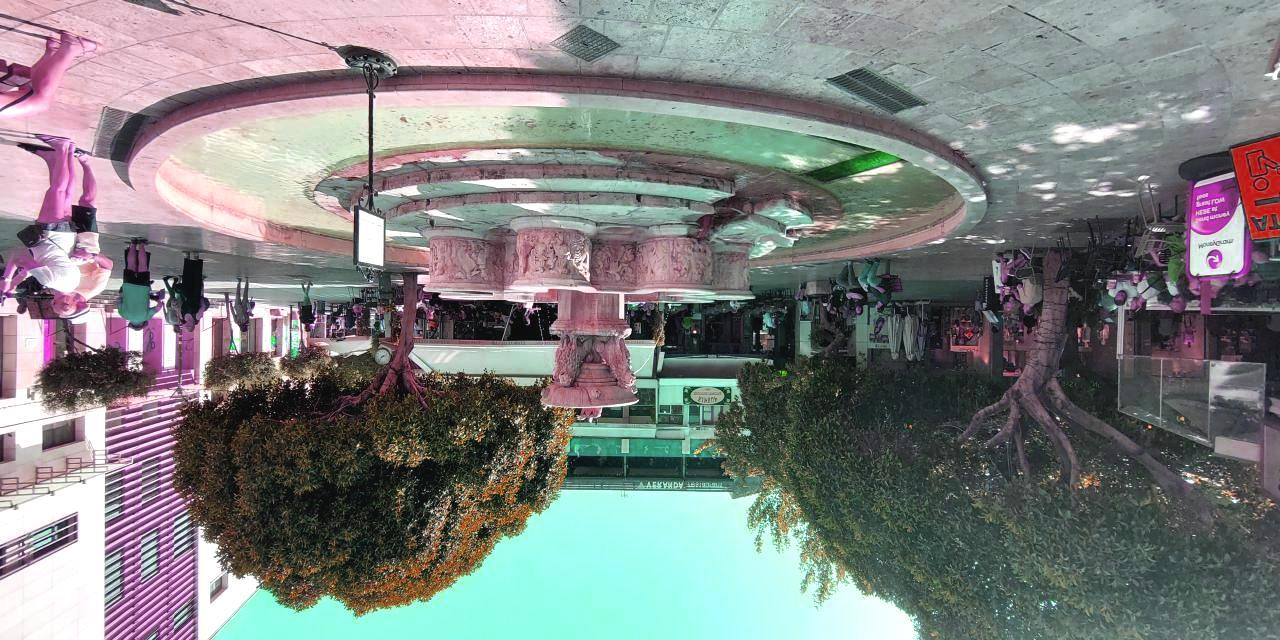Liontaria: (416, 222, 754, 413)
